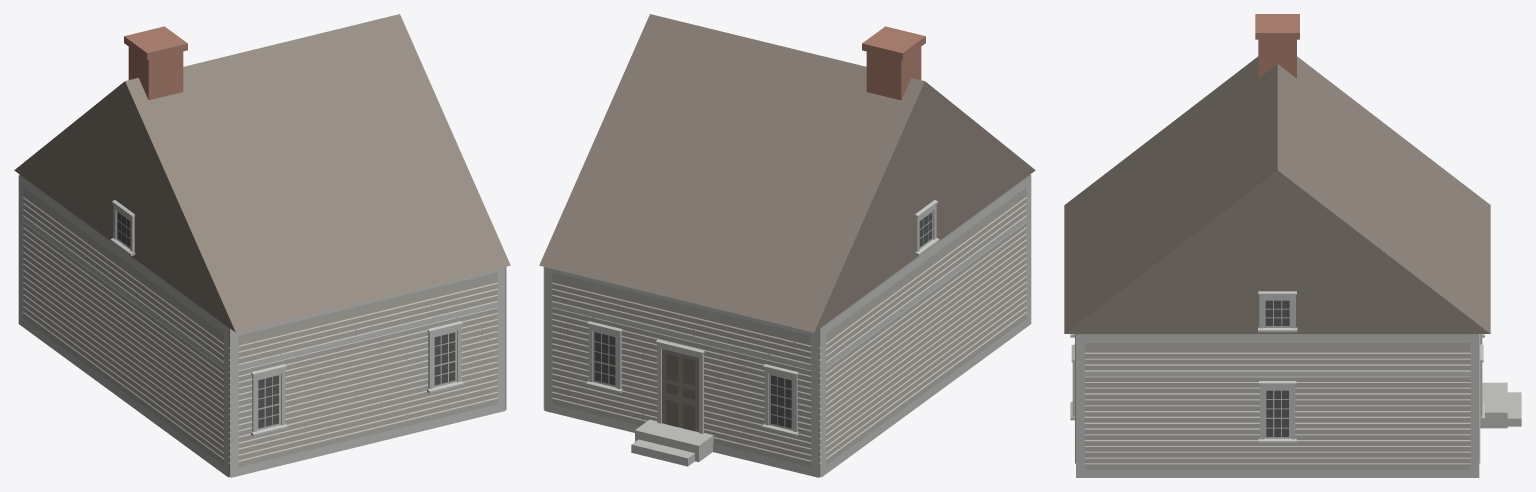
File: recon_1835_blk_school_section_tier_118_d6_06__inferred_1835.glb
3 renders of one model, left to right at view 1: azimuth 30°, elevation 25°; view 2: azimuth 150°, elevation 25°; view 3: azimuth 270°, elevation 25°, orthographic. The views are drawn at different scales.
Visible parts, largest first — view 1: recon_1835_blk_school_section_tier_118_d6_06__inferred_1835; view 2: recon_1835_blk_school_section_tier_118_d6_06__inferred_1835; view 3: recon_1835_blk_school_section_tier_118_d6_06__inferred_1835.
Part boxes in pixels (bbox=[...]): recon_1835_blk_school_section_tier_118_d6_06__inferred_1835: bbox=[14, 14, 510, 477]; recon_1835_blk_school_section_tier_118_d6_06__inferred_1835: bbox=[539, 14, 1035, 477]; recon_1835_blk_school_section_tier_118_d6_06__inferred_1835: bbox=[1064, 14, 1521, 477].
Size of the model in its own units: 6.89 by 8.18 by 9.98.
